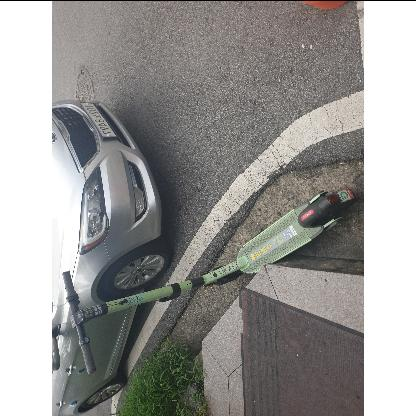bike: (51, 157, 358, 416)
traffic light: (50, 98, 171, 383)
